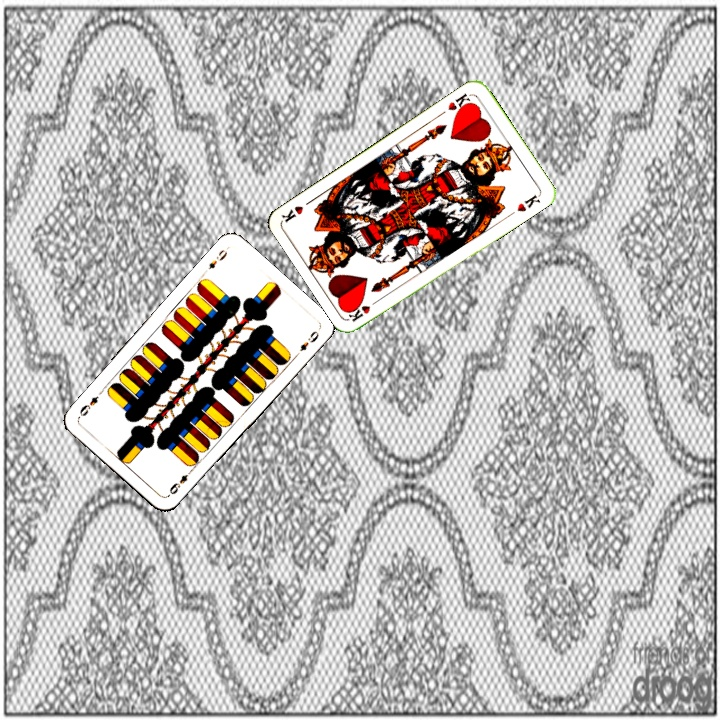E9: (164, 465, 195, 499), (199, 245, 230, 277)
HK: (345, 295, 383, 324), (444, 89, 475, 116)
